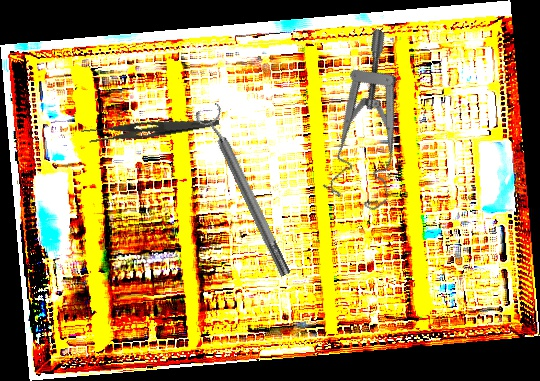Dressing Forceps: (80, 104, 220, 150)
Fixation Ring: (193, 101, 298, 282)
Speculum: (292, 27, 459, 219)
